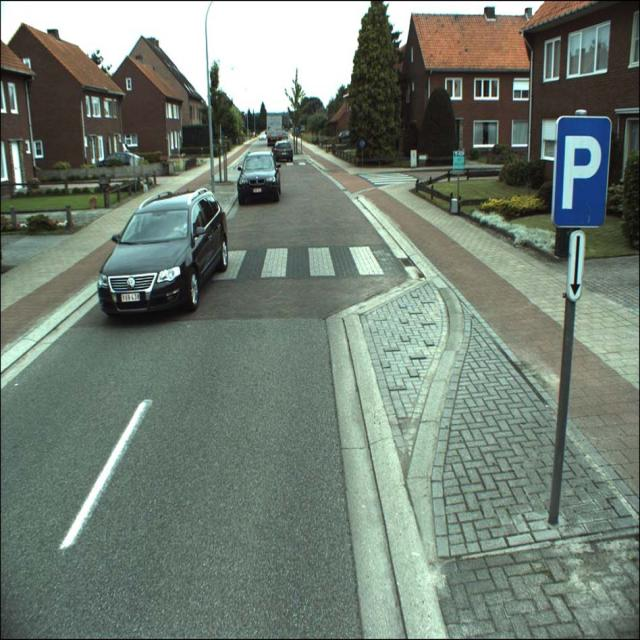park: (553, 115, 610, 229)
